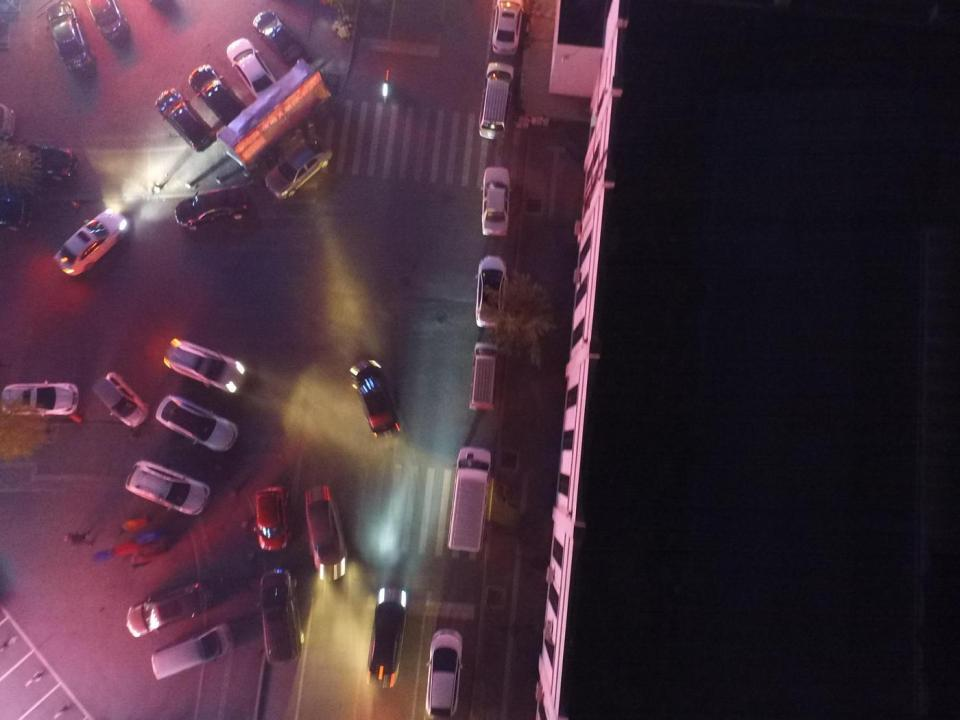car: (54, 208, 128, 276), (126, 582, 213, 637), (125, 460, 210, 515), (156, 395, 238, 450), (163, 338, 245, 392), (265, 136, 332, 199), (349, 359, 400, 438), (188, 64, 249, 130), (155, 88, 217, 152), (367, 588, 406, 687), (305, 486, 346, 580), (251, 9, 309, 70), (46, 1, 95, 71), (227, 37, 279, 101), (175, 187, 247, 231), (92, 371, 148, 427), (426, 630, 462, 715), (1, 379, 78, 417), (0, 144, 77, 181), (252, 486, 290, 551), (476, 255, 508, 327), (481, 166, 511, 236), (86, 0, 129, 41), (492, 0, 524, 54), (1, 195, 30, 232)
van: (151, 621, 234, 679), (257, 569, 305, 667), (448, 448, 490, 552), (479, 62, 514, 140), (469, 342, 497, 412)
